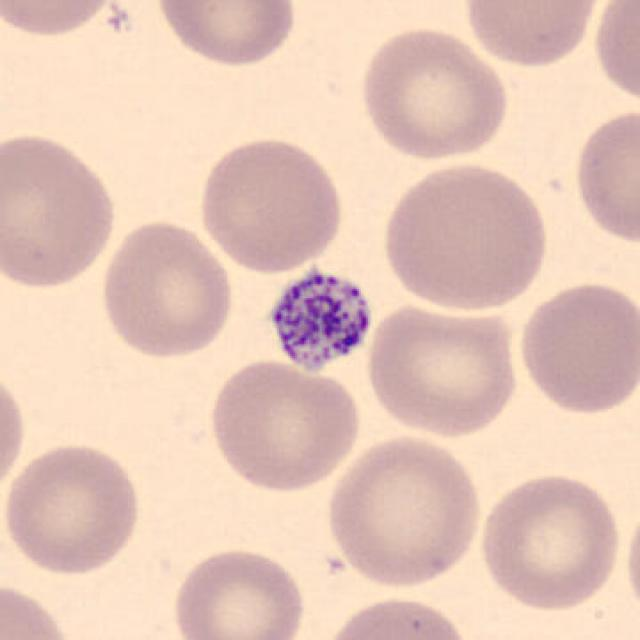Platelets: (263, 264, 377, 378)
RBC: (377, 159, 553, 314), (322, 430, 485, 591), (204, 354, 364, 496), (362, 298, 522, 439), (354, 21, 514, 162), (474, 467, 626, 614), (194, 132, 348, 275), (96, 215, 238, 362), (0, 127, 123, 294), (2, 438, 146, 578), (514, 276, 638, 419), (167, 543, 311, 640), (151, 0, 301, 69), (461, 0, 606, 71), (569, 104, 640, 249), (316, 592, 474, 640), (590, 0, 638, 113), (0, 576, 78, 640), (2, 0, 122, 41), (0, 361, 30, 506), (622, 488, 640, 626)
